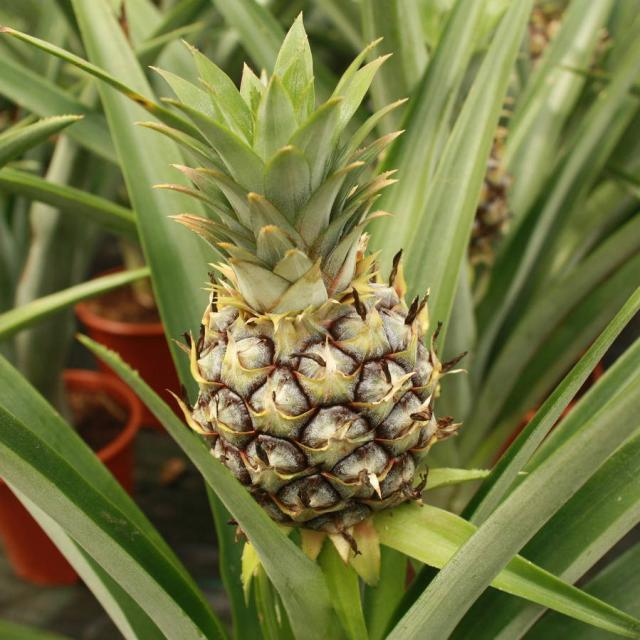pineapple: (181, 177, 461, 539)
